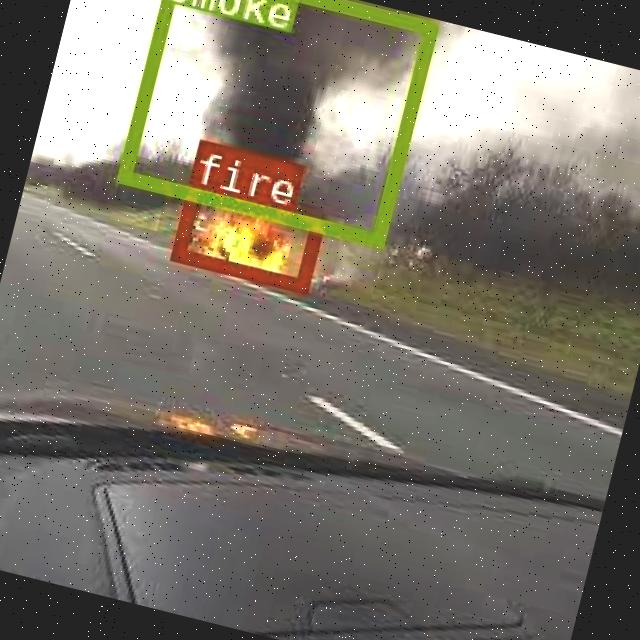fire: (170, 182, 322, 289)
smoke: (115, 0, 436, 245)
